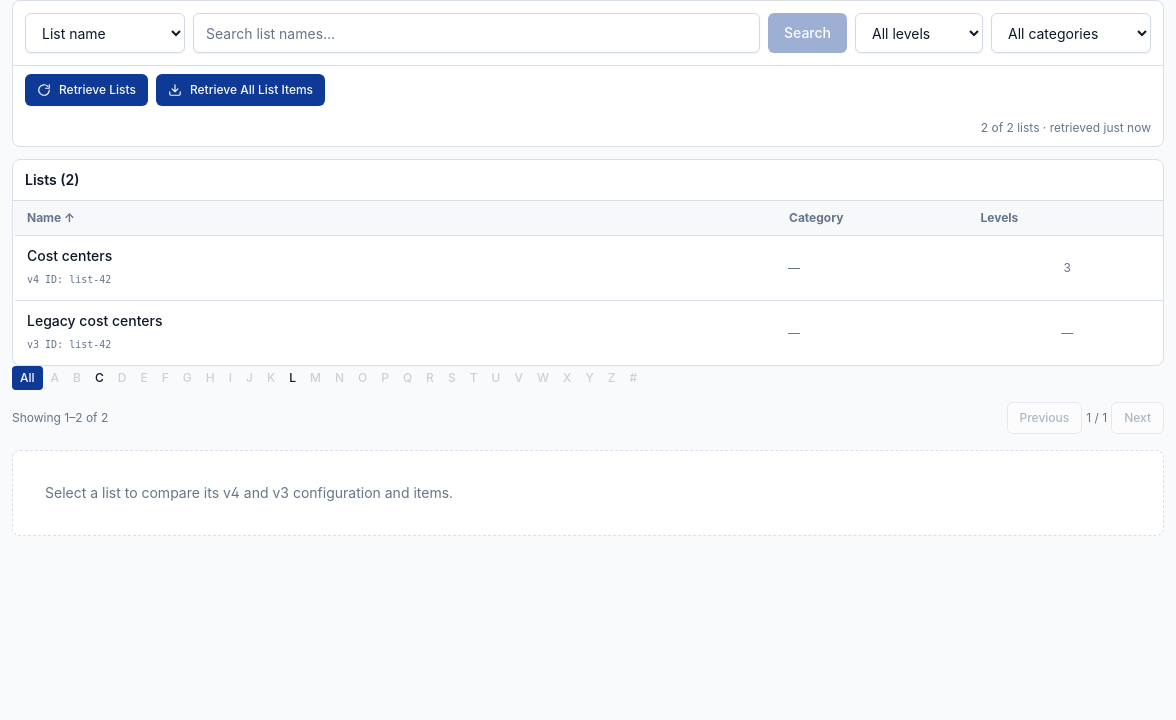
ListsView table actions › searches saved v3 item codes without confusing them with v4 IDs
Expected: the text "v3 ID: list-42" is shown, [27,339,111,350]
Select "Item code" in the dropdown named "Search lists by". click: (105, 33)
box: [25,13,185,53]
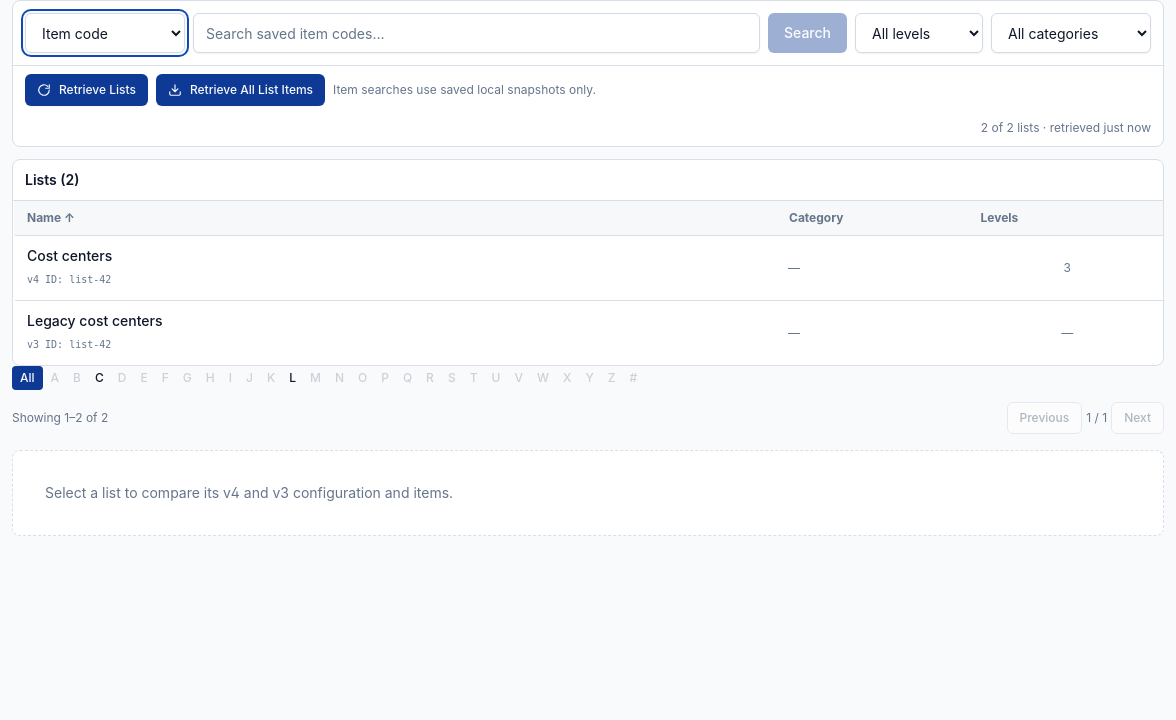
Type "OPS" into the field named "Search lists". click: (476, 33)
box: [193,13,760,53]
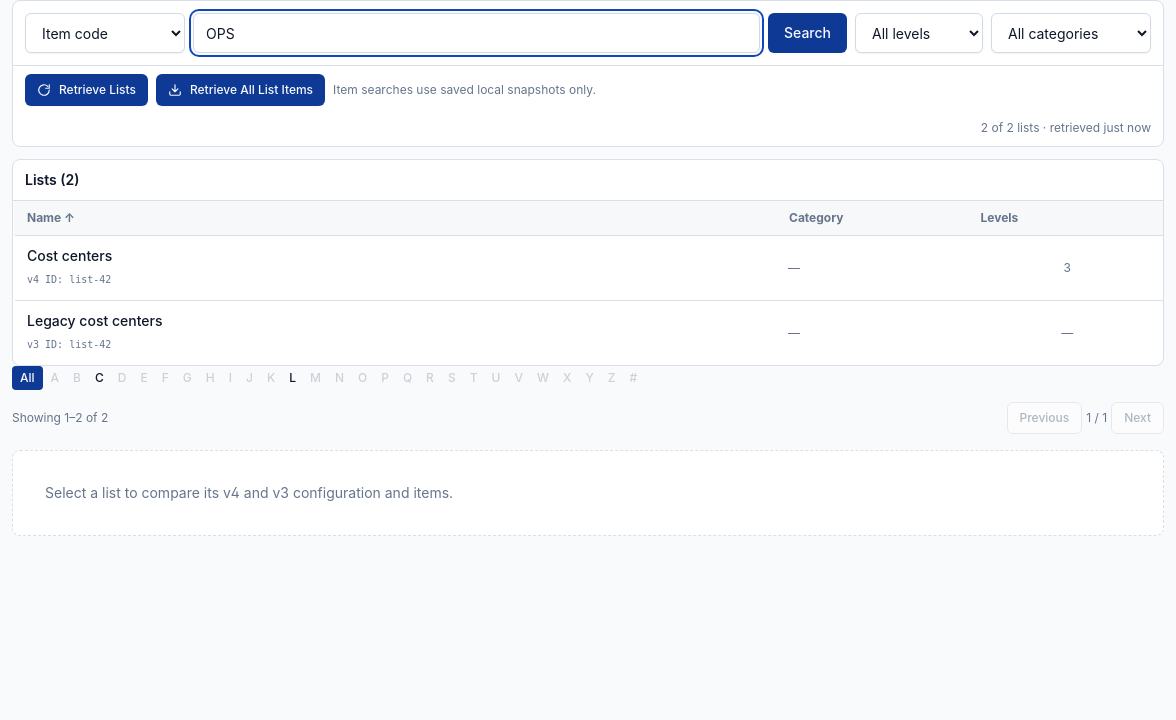
Click the button "Search". click: (808, 33)
box: [768,13,847,53]
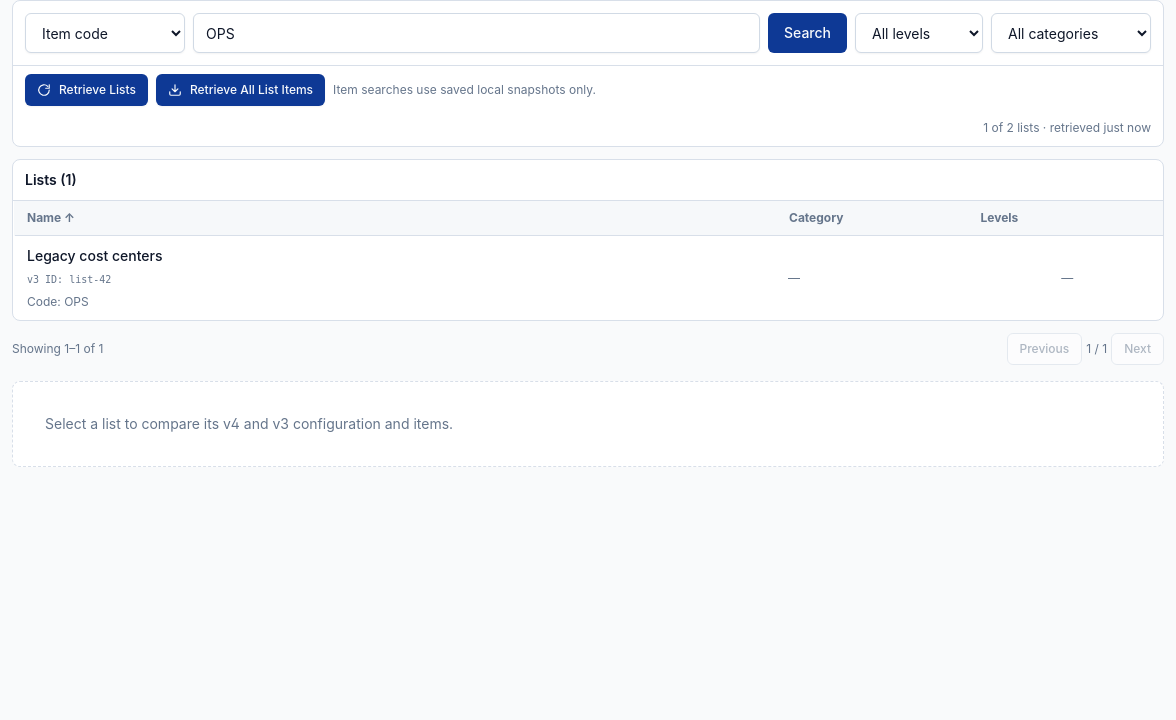
Expected: the text "v3 ID: list-42" is shown, [27,274,111,285]
Now the text "v4 ID: list-42" is gone
